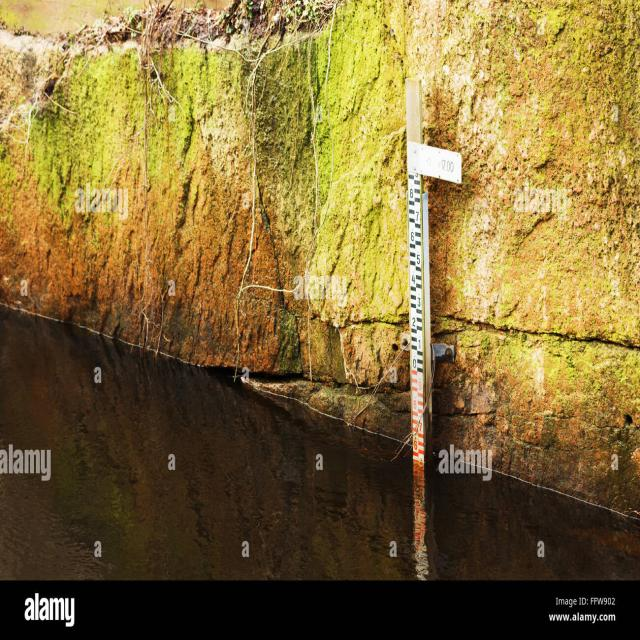ruler: (402, 137, 466, 468)
value: (440, 157, 456, 174), (416, 292, 423, 309), (408, 186, 415, 200), (414, 210, 420, 222), (410, 274, 416, 286), (416, 296, 422, 308), (411, 316, 417, 328), (412, 398, 418, 410), (410, 230, 415, 242), (411, 358, 417, 368), (417, 422, 423, 432), (417, 339, 422, 350), (416, 253, 420, 265), (418, 380, 422, 392)
